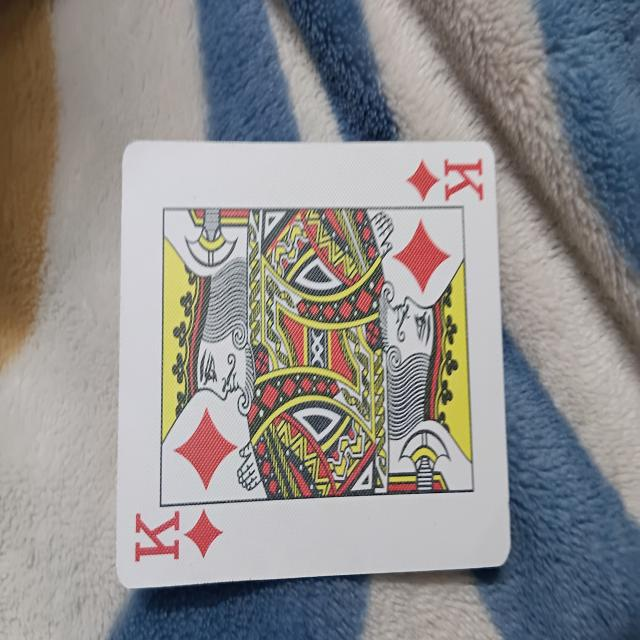KD: (114, 135, 506, 593)
